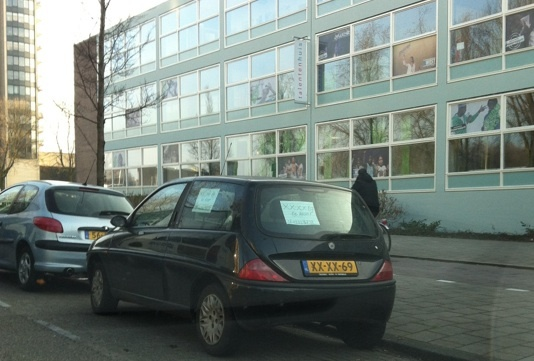kenteken: (301, 259, 358, 274)
